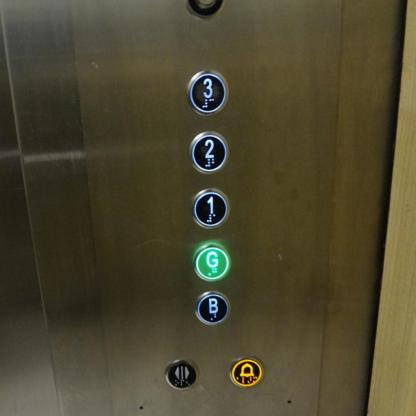1: (189, 186, 231, 230)
2: (188, 130, 230, 175)
3: (185, 68, 229, 117)
B: (193, 290, 231, 325)
G: (190, 240, 231, 283)
alarm: (226, 354, 263, 388)
open: (163, 358, 201, 391)
